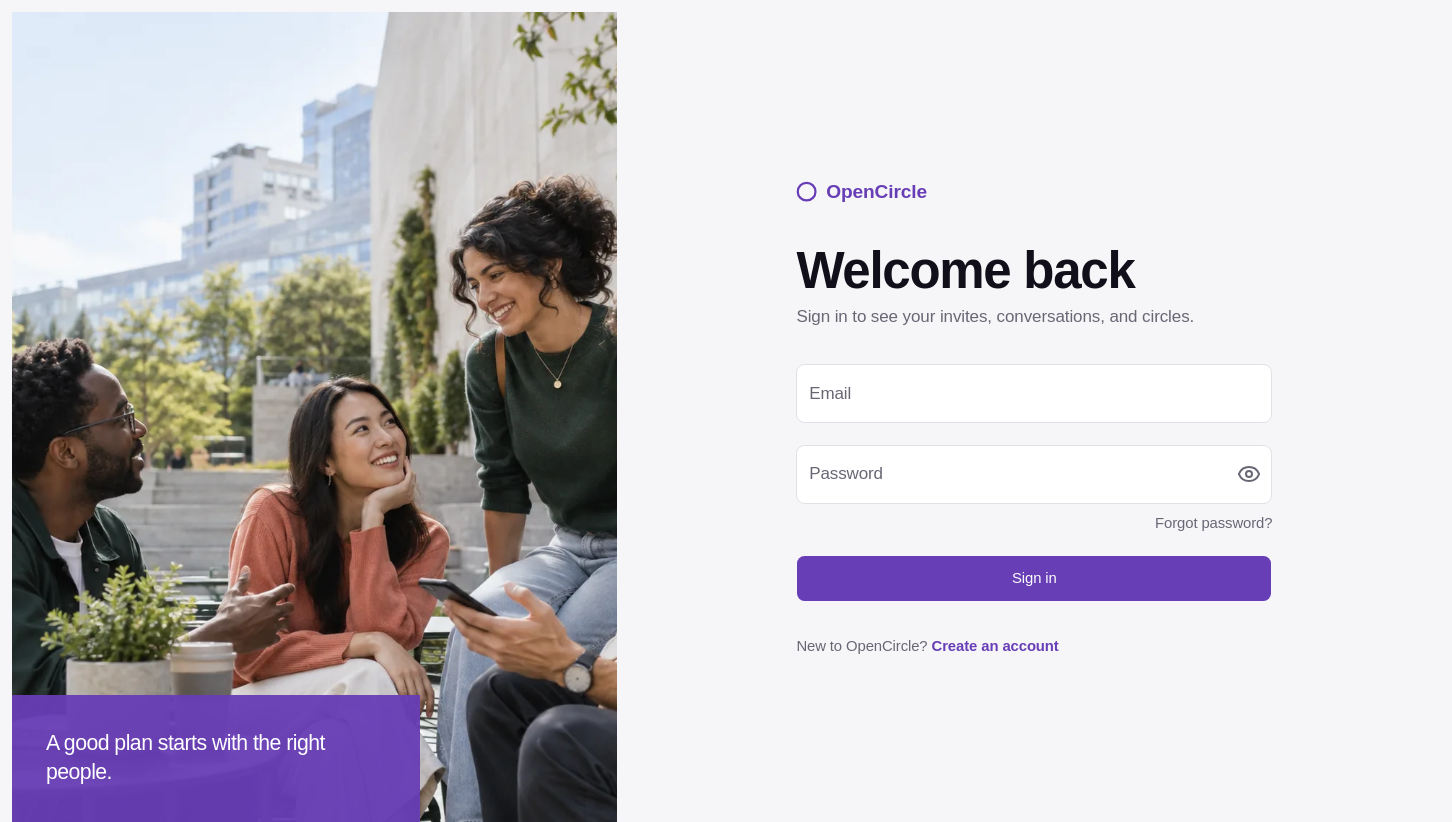
Test: LoginPage › shows invalid credentials without attempting a refresh
In the field labelled "Email": {"x": 1034, "y": 394} [796,364,1272,423], type "maya@example.com"
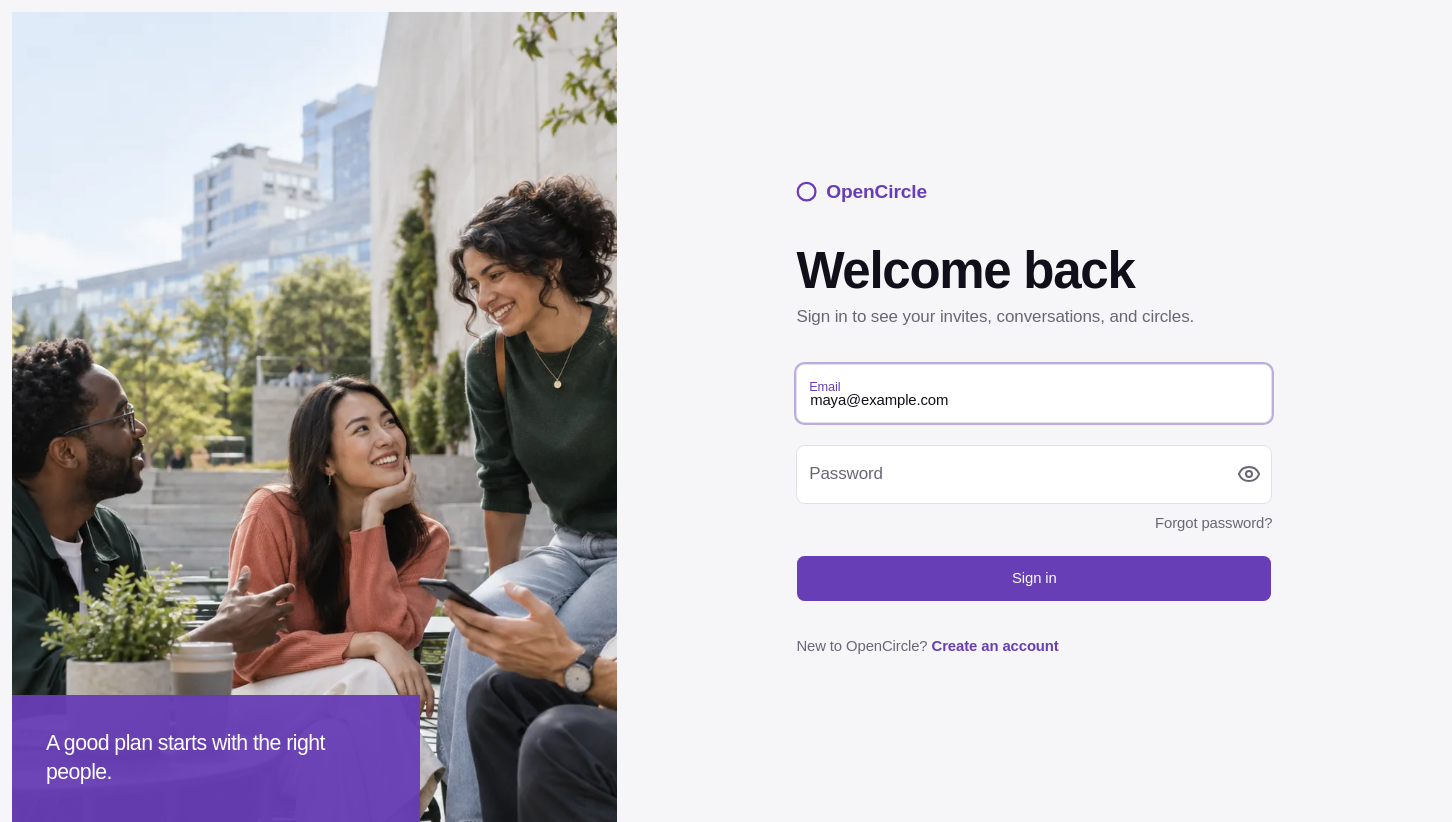
In the password field labelled "Password": {"x": 1034, "y": 474} [796,445,1272,504], type "open-circle-strong"
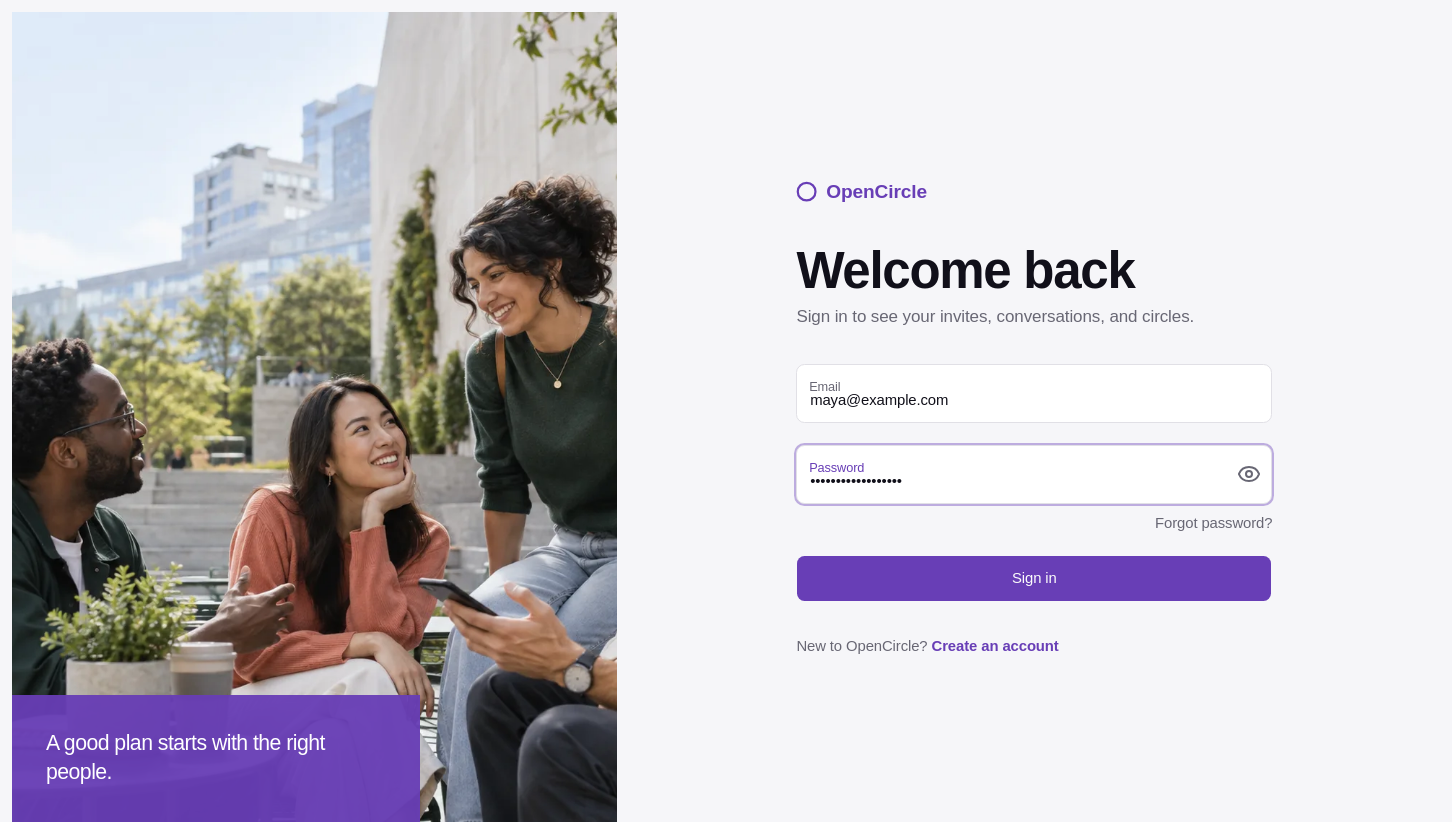
Click the button "Sign in": {"x": 1034, "y": 578} [796,555,1272,602]
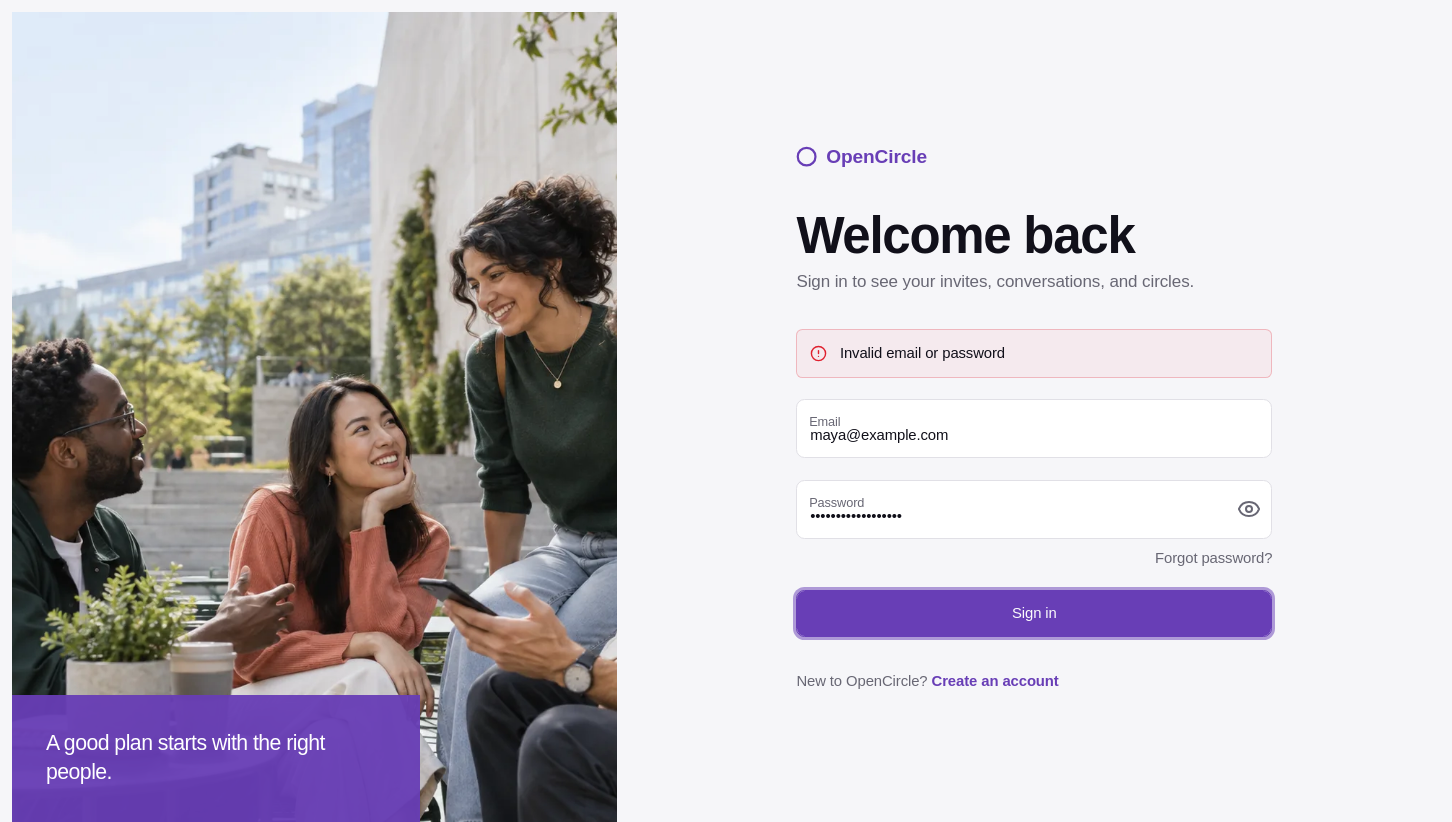
Result: the text "Invalid email or password" is shown at [840,343,1005,364]
